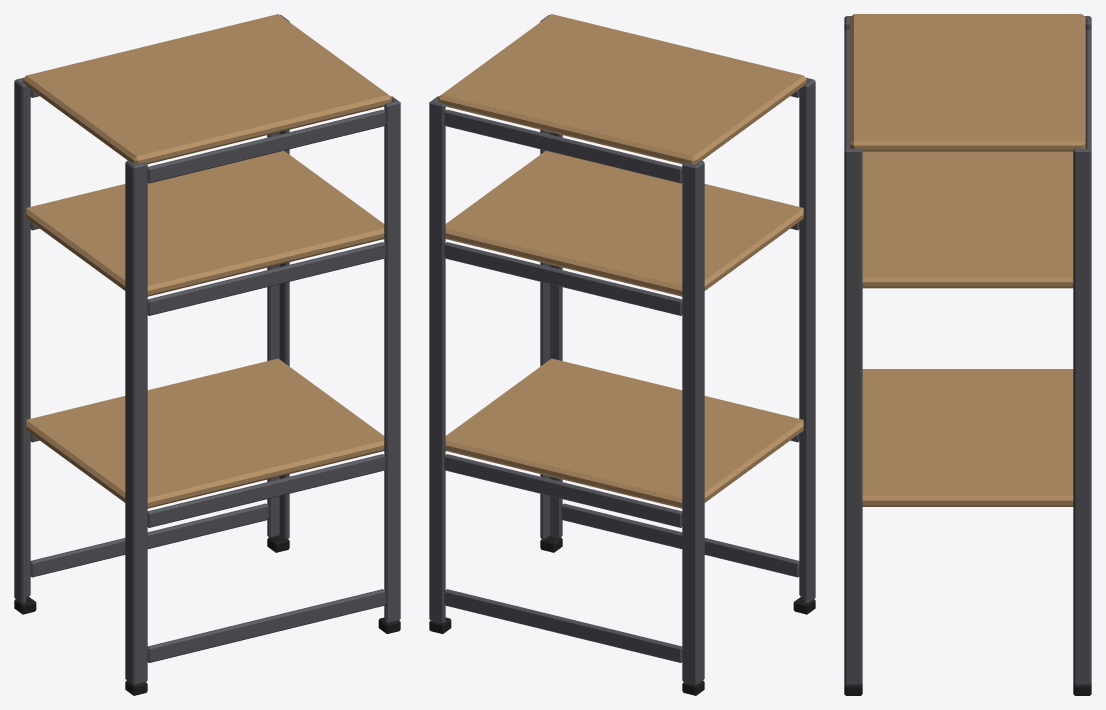
Rendered from estante_deposito.glb.
3 renders of one model, left to right at view 1: azimuth 30°, elevation 25°; view 2: azimuth 150°, elevation 25°; view 3: azimuth 270°, elevation 25°, orthographic. The views are drawn at different scales.
Parts seen in each view (by area): view 1: estante_deposito_cuerpo; view 2: estante_deposito_cuerpo; view 3: estante_deposito_cuerpo.
Part boxes in pixels (bbox=[...]): estante_deposito_cuerpo: bbox=[14, 14, 400, 695]; estante_deposito_cuerpo: bbox=[429, 14, 815, 695]; estante_deposito_cuerpo: bbox=[844, 14, 1091, 695].
Size of what is drawn, in the model's own units: 0.53 by 1.01 by 0.41.
